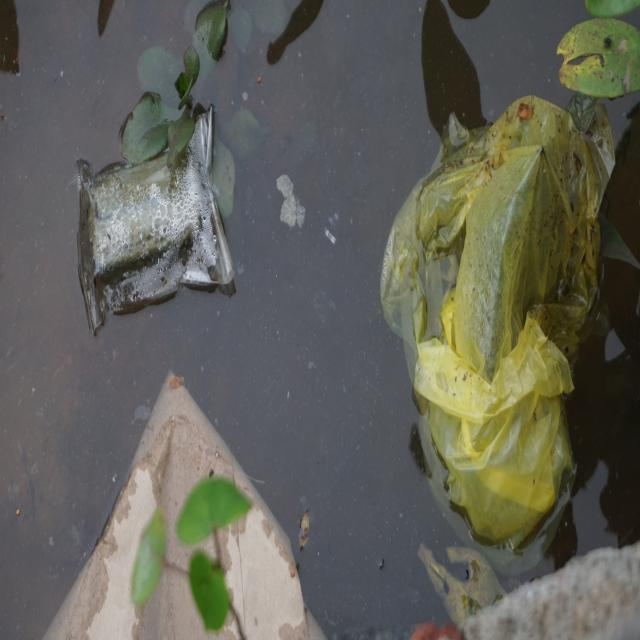Kantong Plastik: (374, 89, 611, 562), (72, 106, 243, 331)
